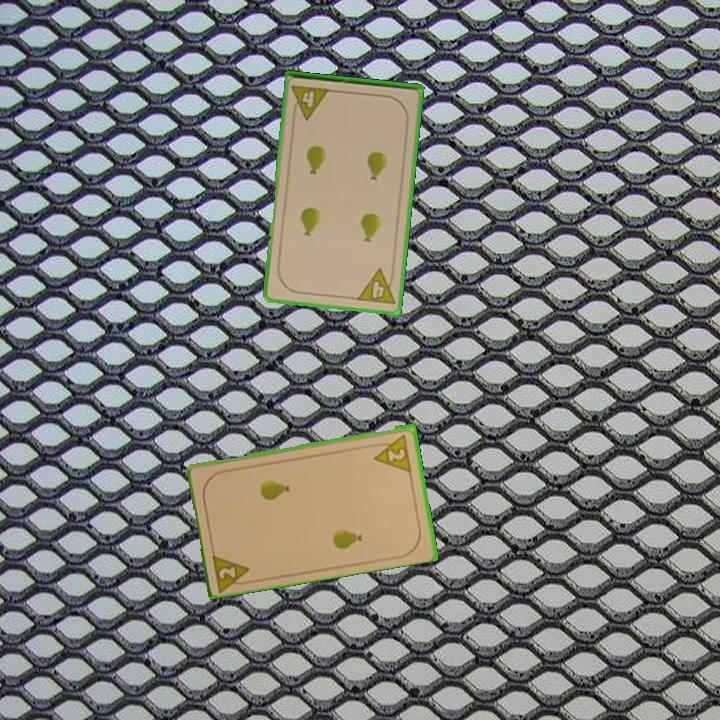2p: (209, 549, 256, 593), (369, 429, 414, 474)
4p: (353, 265, 398, 307), (288, 82, 333, 122)
